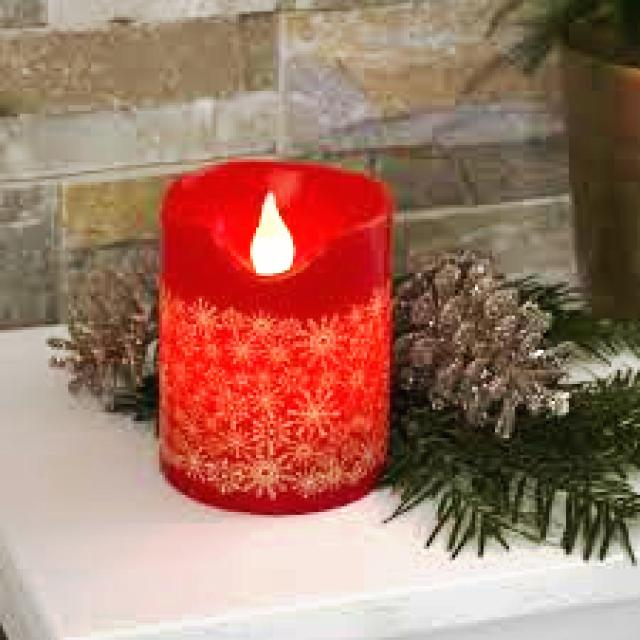api: (246, 180, 297, 280)
